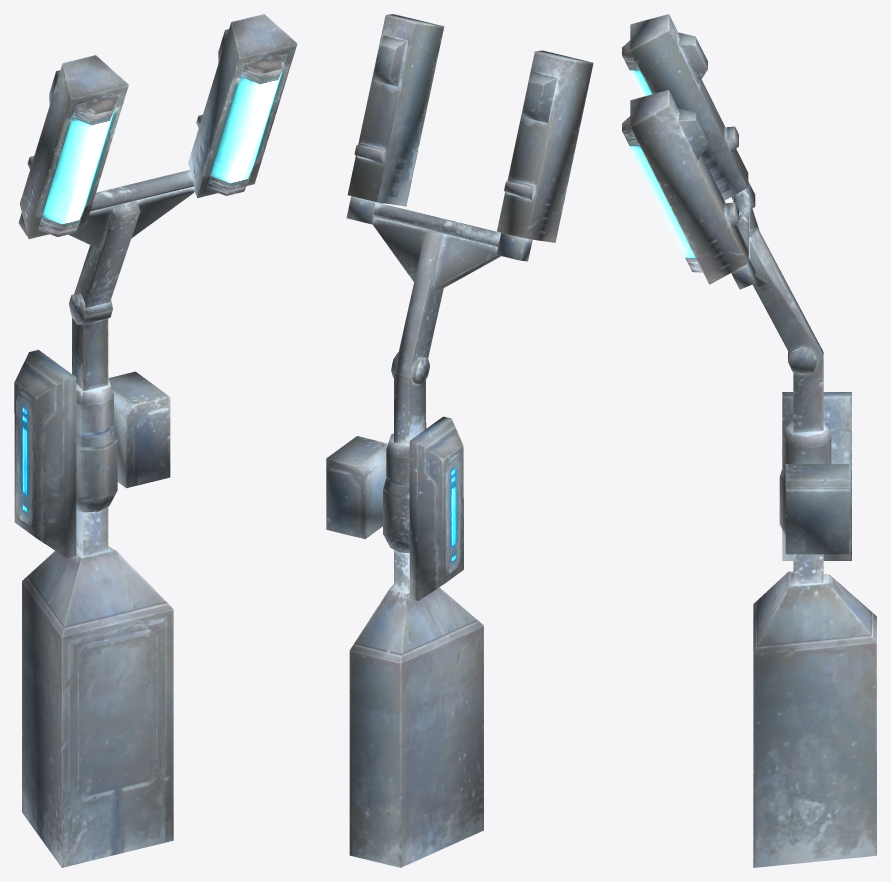
Rendered from hth__item_floodlight.glb.
The picture shows the model from 3 angles, left to right: view 1: azimuth 30°, elevation 25°; view 2: azimuth 150°, elevation 25°; view 3: azimuth 270°, elevation 25°; orthographic projection. The views are drawn at different scales.
Parts seen in each view (by area): view 1: hth__item_floodlight; view 2: hth__item_floodlight; view 3: hth__item_floodlight.
Part boxes in pixels (x1,y1,x2,y2): hth__item_floodlight: (14, 14, 297, 867); hth__item_floodlight: (326, 14, 593, 867); hth__item_floodlight: (622, 14, 876, 867).
Bounding box in the file's own units: 0.1969 × 0.7066 × 0.2083.
Materials: 1 (1 with a texture image).
